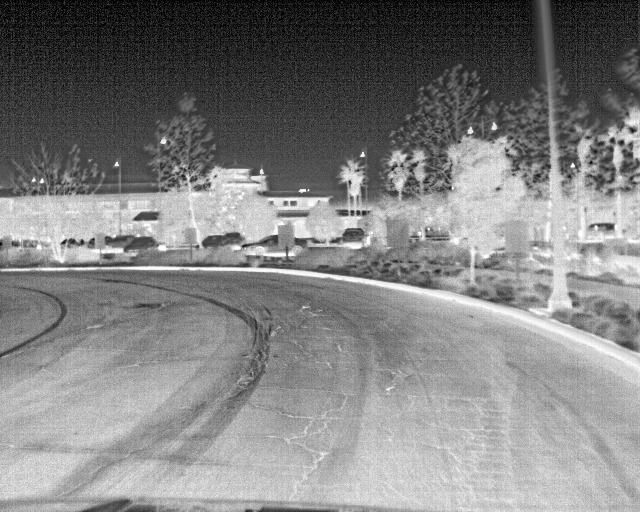car: (239, 235, 278, 256), (200, 234, 242, 251), (340, 227, 366, 250), (122, 237, 159, 252), (105, 234, 137, 251), (222, 230, 245, 248), (288, 236, 307, 254)
